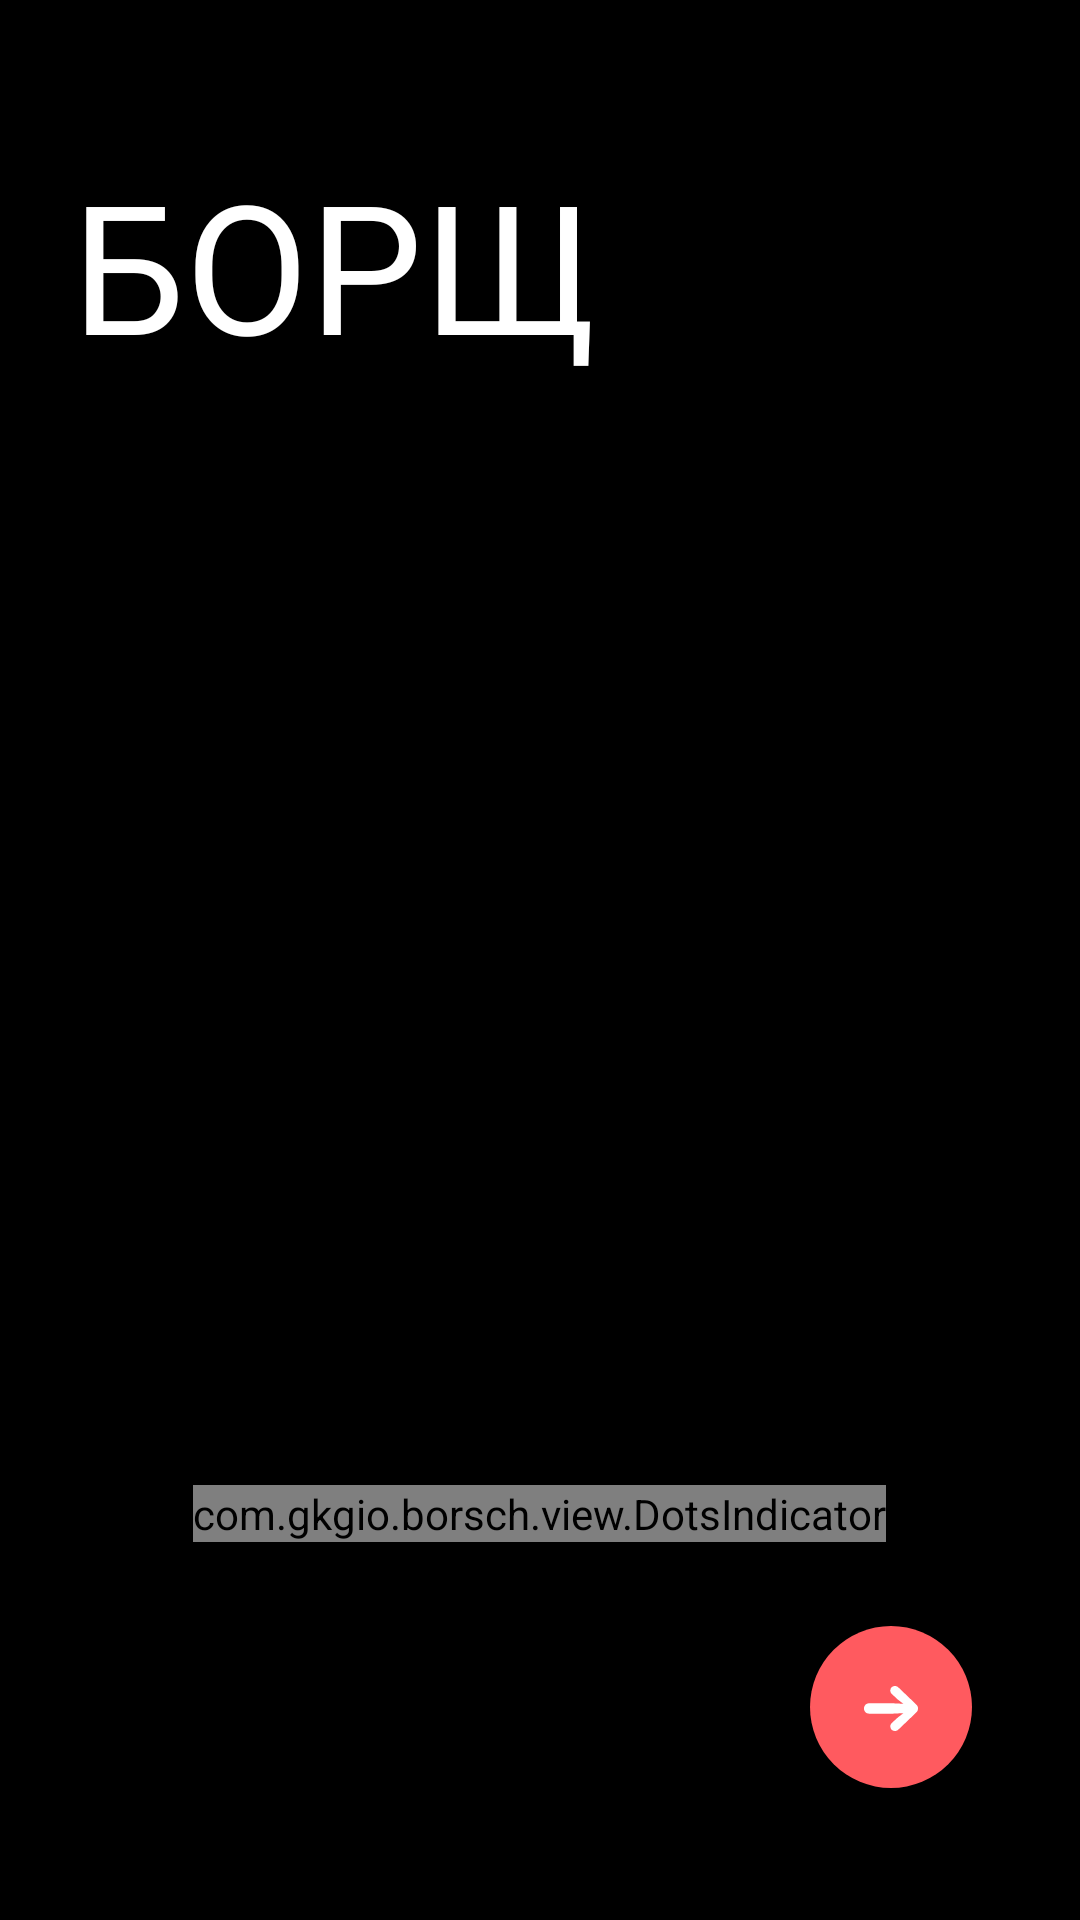

Point at icon controls on the screen. Image size 1080 × 1920, points as point (x, y).
continue: point (891, 1707)
